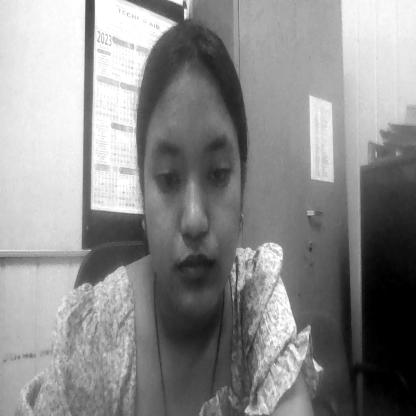Normal: (142, 99, 242, 312)
